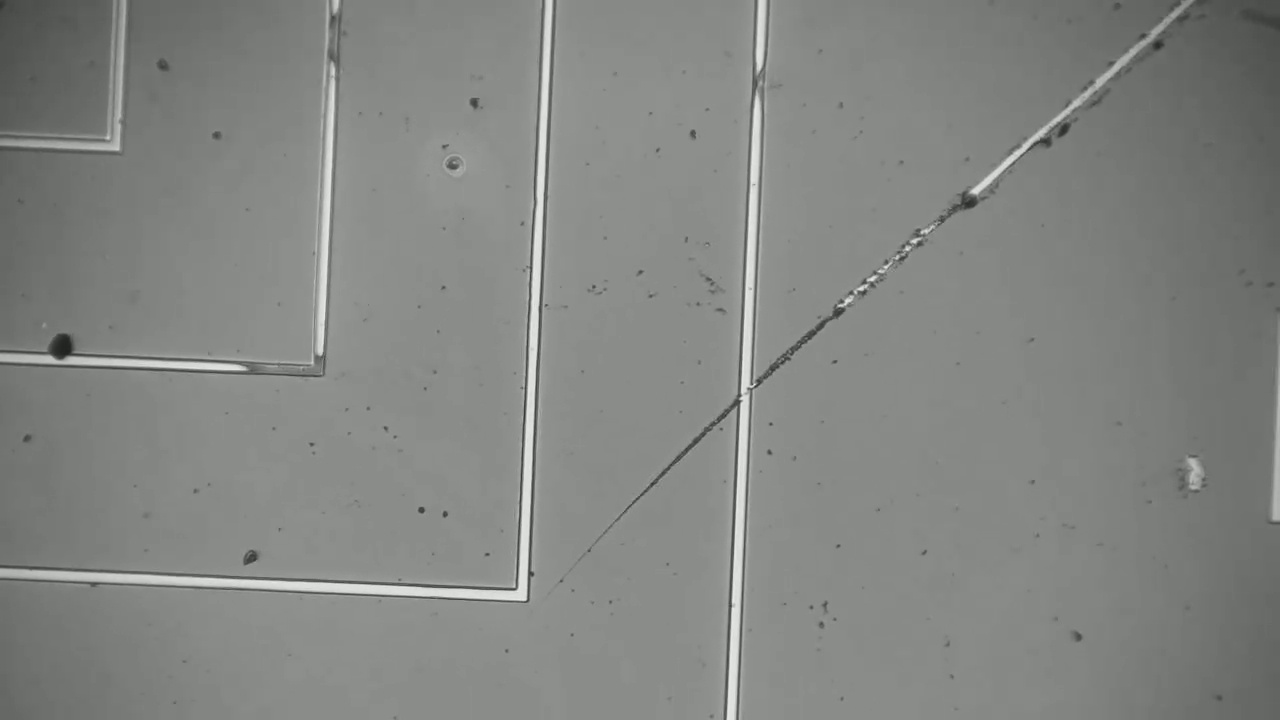gray_line: (223, 352, 336, 384), (309, 1, 350, 78), (739, 56, 777, 117), (305, 337, 334, 391)
scratch: (544, 1, 1202, 577)
stains_enbedded: (29, 307, 91, 386)
